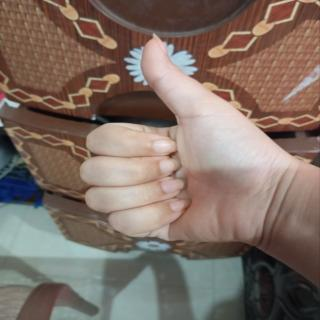ALIF: (79, 29, 303, 259)
